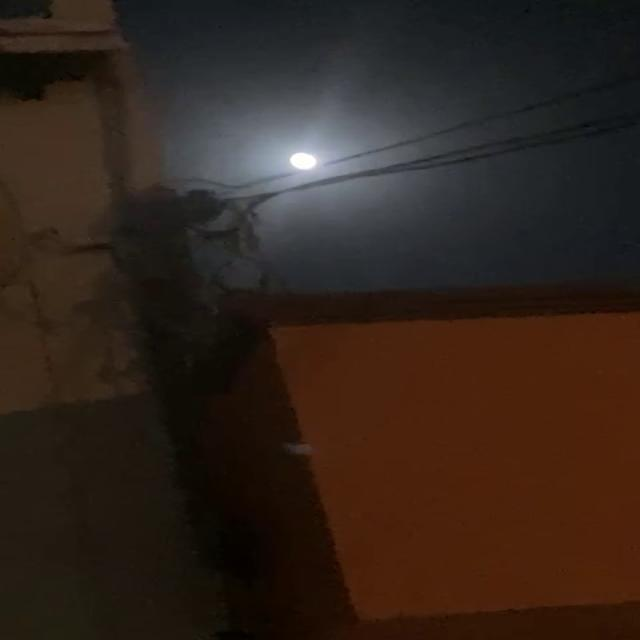moon: (292, 140, 344, 172)
